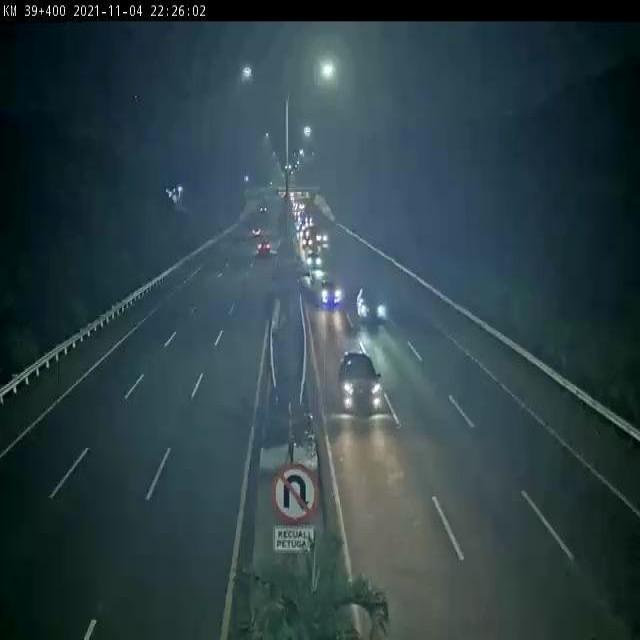car: (331, 344, 390, 417), (354, 282, 392, 326), (320, 275, 343, 313), (253, 237, 278, 263), (302, 250, 327, 270), (314, 226, 330, 246)
